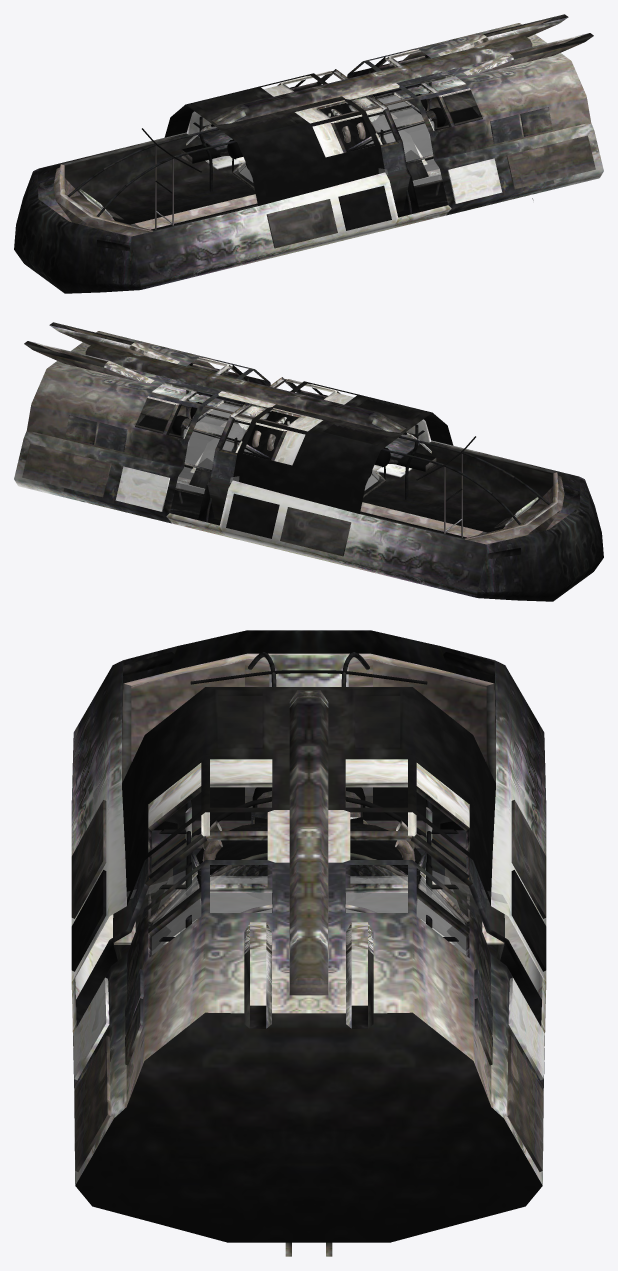
File: Transport Shuttle_fbx_mod2.fbx
3 views of the same model, one above another, from view 1: azimuth 30°, elevation 25°; view 2: azimuth 150°, elevation 25°; view 3: azimuth 270°, elevation 25° (orthographic). The views are drawn at different scales.
Visible parts, largest first — view 1: Shuttle.002, Shuttle.013, Shuttle.011, Shuttle.045, Shuttle.020, Shuttle.047, Shuttle.021, Shuttle.008, Shuttle.024; view 2: Shuttle.002, Shuttle.013, Shuttle.011, Shuttle.045, Shuttle.021, Shuttle.047, Shuttle.020, Shuttle.008, Shuttle.022; view 3: Shuttle.002, Shuttle.013, Shuttle.047, Shuttle.045, Shuttle.011, Shuttle.024, Shuttle.022, Shuttle.008, Shuttle.046.
Boxes of the visible parts, bbox=[...] form: Shuttle.002: bbox=[14, 14, 603, 293]; Shuttle.013: bbox=[53, 49, 481, 236]; Shuttle.011: bbox=[58, 82, 482, 230]; Shuttle.045: bbox=[238, 92, 441, 185]; Shuttle.020: bbox=[181, 107, 445, 169]; Shuttle.047: bbox=[346, 103, 428, 180]; Shuttle.021: bbox=[227, 94, 440, 182]; Shuttle.008: bbox=[232, 92, 442, 190]; Shuttle.024: bbox=[329, 111, 375, 149]; Shuttle.002: bbox=[14, 322, 603, 601]; Shuttle.013: bbox=[136, 357, 564, 544]; Shuttle.011: bbox=[135, 390, 559, 538]; Shuttle.045: bbox=[176, 400, 379, 493]; Shuttle.021: bbox=[172, 415, 436, 477]; Shuttle.047: bbox=[189, 411, 271, 488]; Shuttle.020: bbox=[177, 402, 390, 490]; Shuttle.008: bbox=[175, 400, 385, 498]; Shuttle.022: bbox=[242, 419, 288, 457]; Shuttle.002: bbox=[71, 630, 546, 1256]; Shuttle.013: bbox=[76, 653, 541, 1026]; Shuttle.047: bbox=[121, 820, 496, 957]; Shuttle.045: bbox=[151, 868, 466, 954]; Shuttle.011: bbox=[151, 652, 466, 941]; Shuttle.024: bbox=[180, 817, 367, 932]; Shuttle.022: bbox=[250, 820, 437, 932]; Shuttle.008: bbox=[147, 852, 470, 928]; Shuttle.046: bbox=[173, 848, 444, 906].
Size of the model in its own units: 1234 by 314 by 467.
12 materials, 11 textured.
